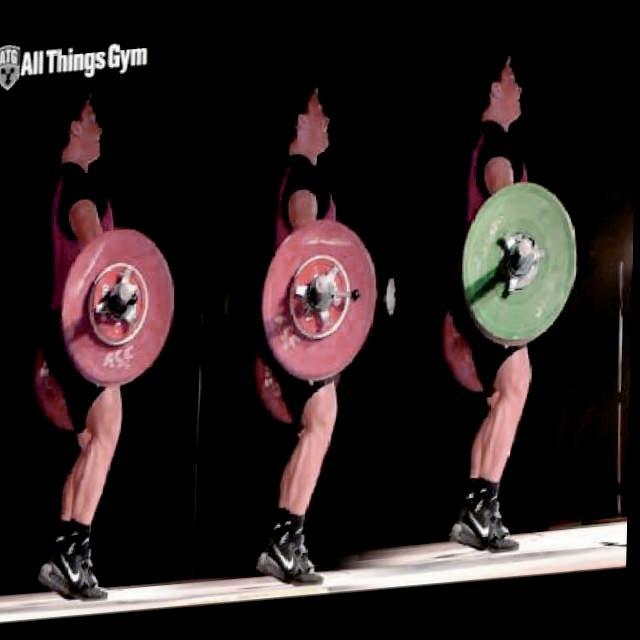barbell: (457, 180, 587, 362), (256, 217, 384, 394), (59, 222, 180, 395)
